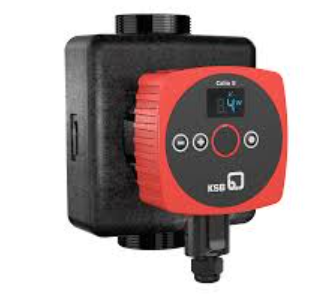Calio S / Calio BMS: (26, 4, 304, 286)
